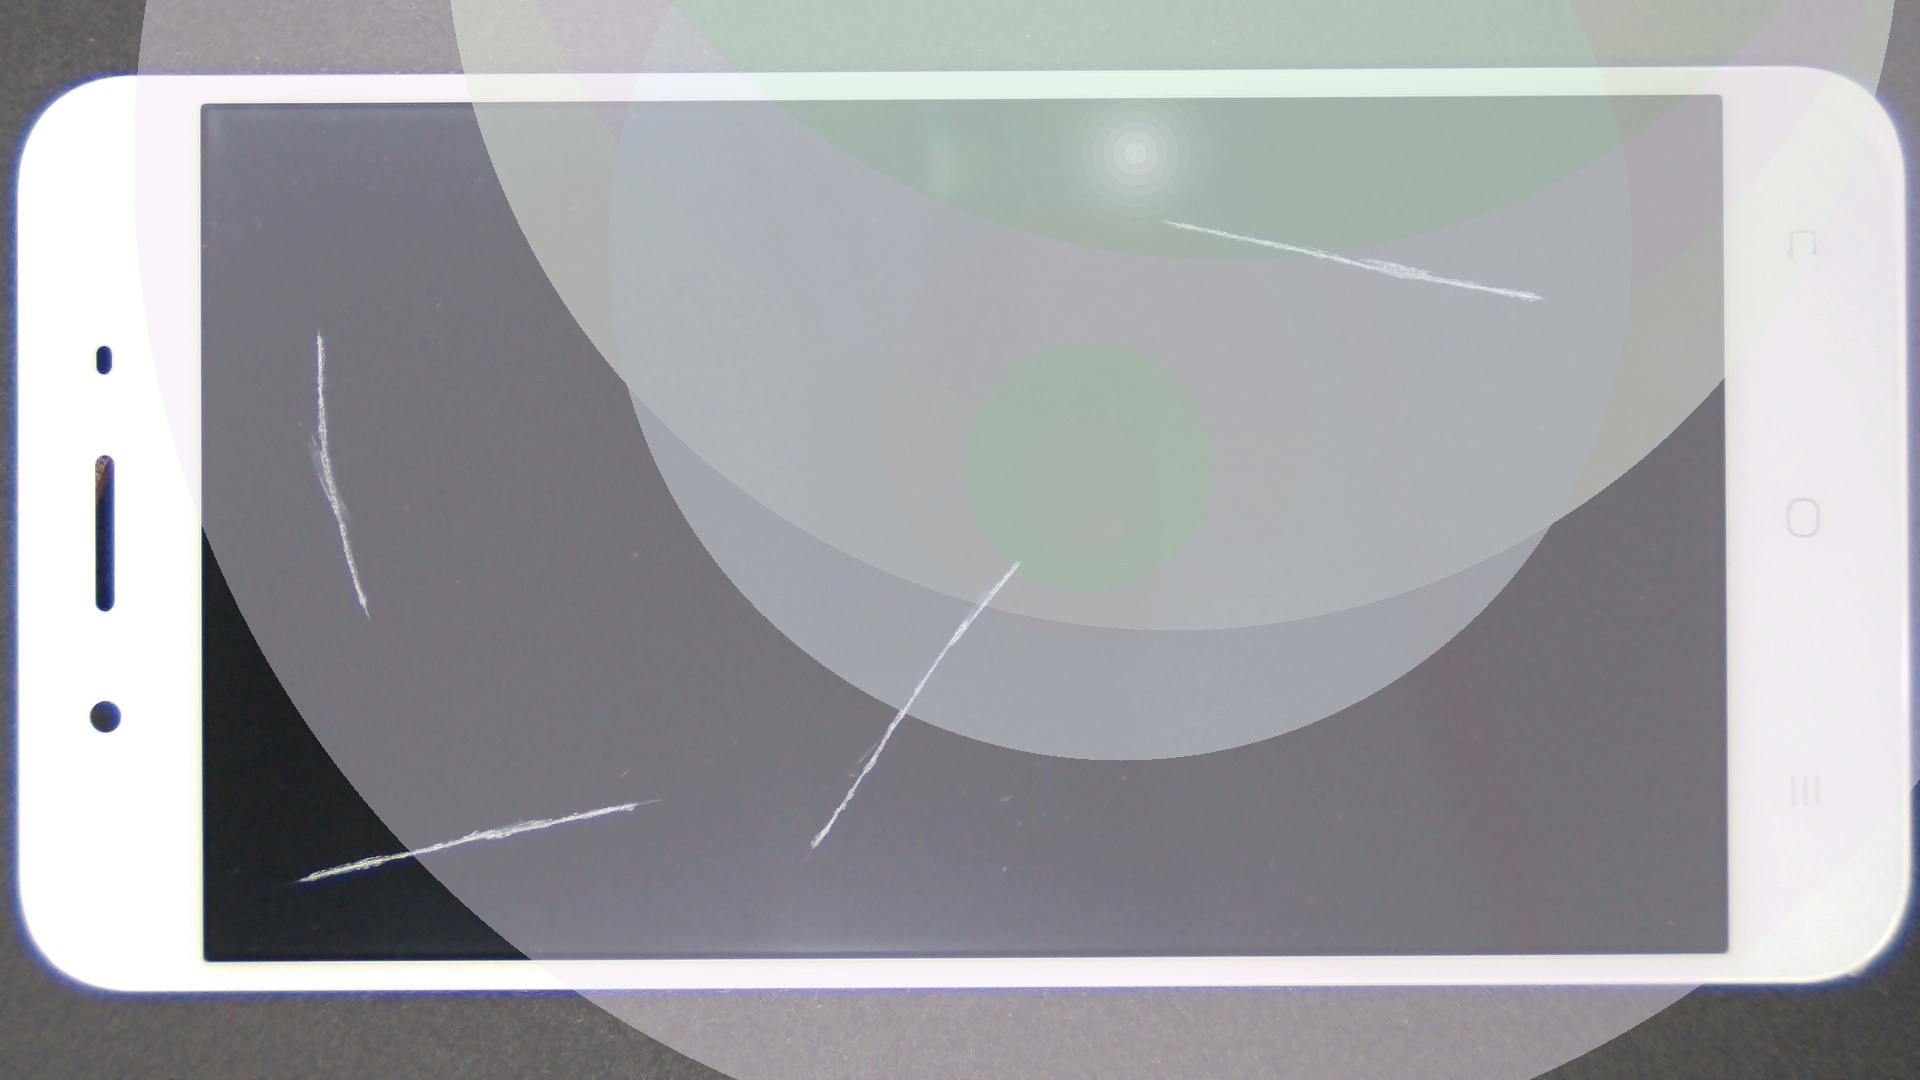oil: (510, 280, 1530, 839), (328, 398, 985, 1080), (579, 109, 1742, 331), (158, 162, 476, 496)
